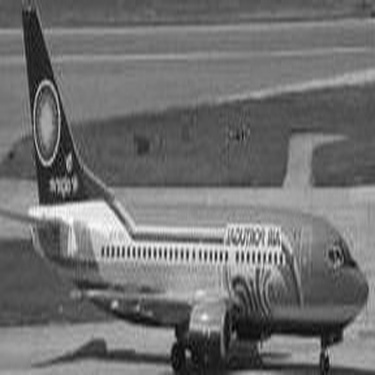airplane: (6, 5, 373, 373)
